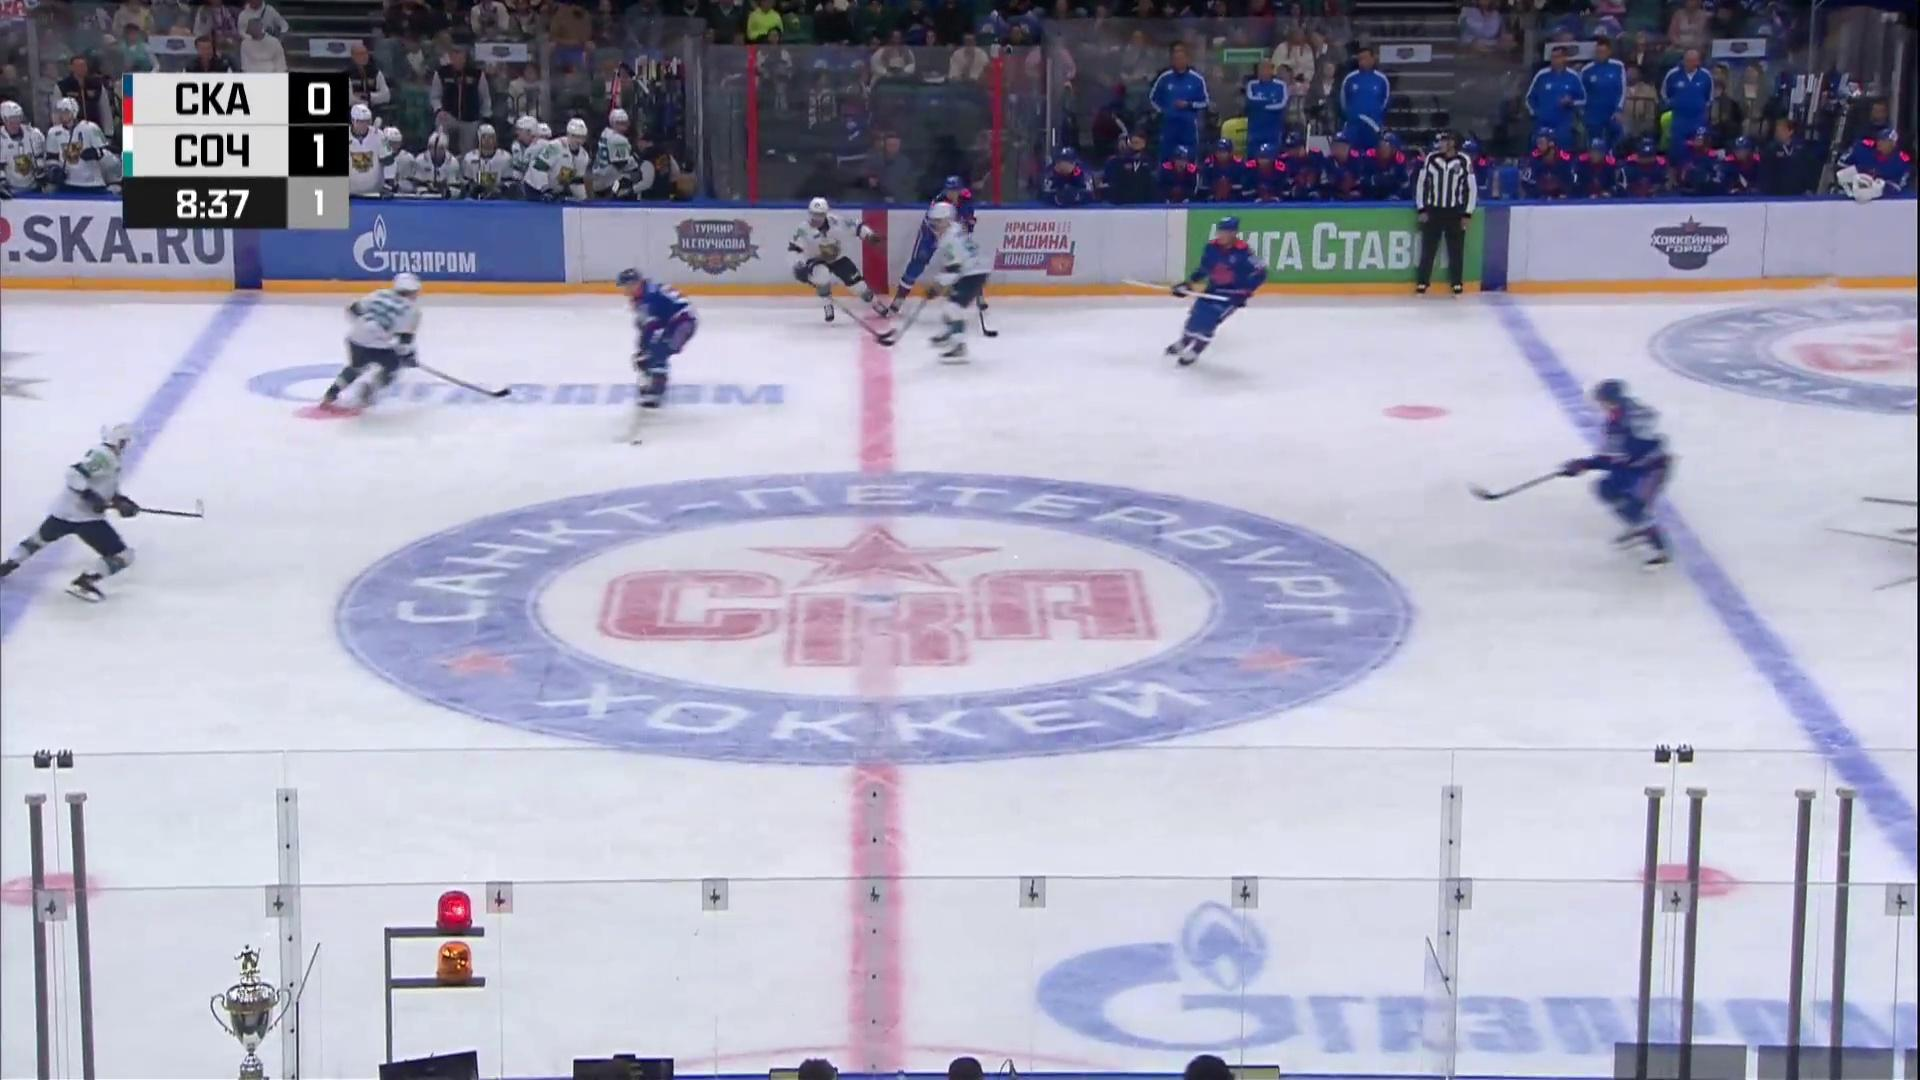ball: (630, 439, 642, 446)
